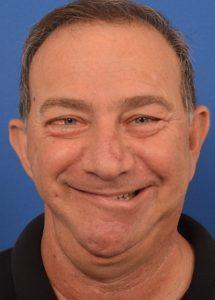strokeEyeWeak: (36, 95, 176, 137)
strokeMouthMid: (43, 178, 163, 210)
